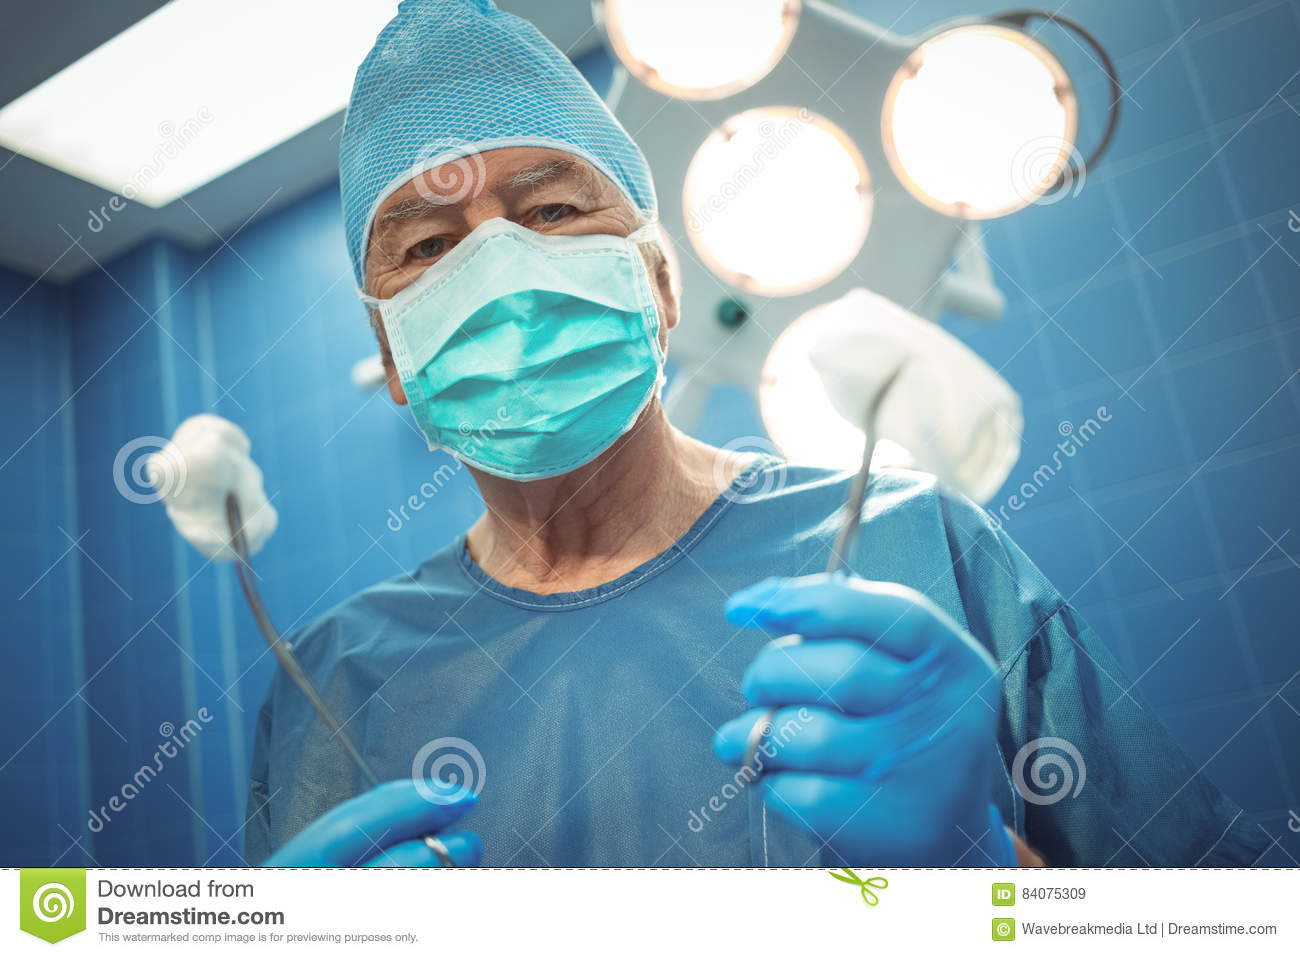mask: (369, 245, 673, 496)
